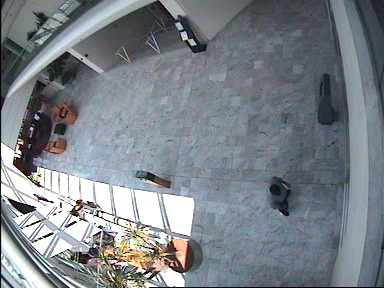person: (264, 176, 291, 216), (70, 200, 101, 218)
